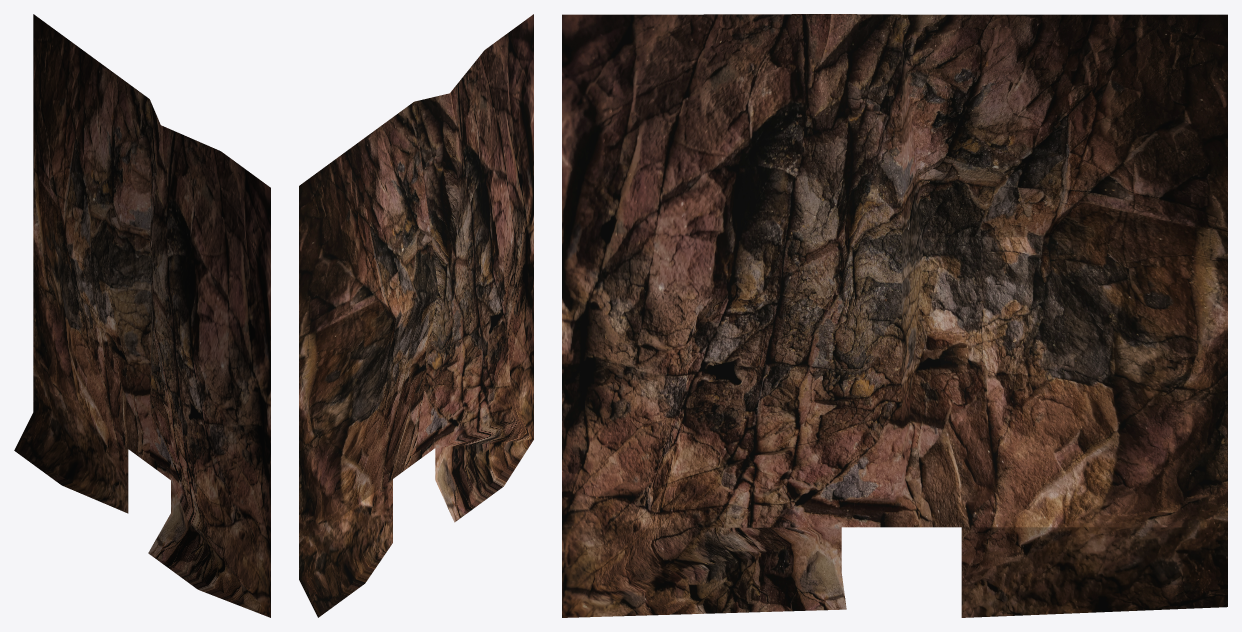
The model's file is Rotsmuur.fbx.
3 views of the same model, side by side, from view 1: azimuth 30°, elevation 25°; view 2: azimuth 150°, elevation 25°; view 3: azimuth 270°, elevation 25° (orthographic). The views are drawn at different scales.
Visible parts, largest first — view 1: Plane; view 2: Plane; view 3: Plane.
Part boxes in pixels (x1=…): Plane: x1=14, y1=14, x2=270, y2=617; Plane: x1=299, y1=14, x2=533, y2=617; Plane: x1=562, y1=14, x2=1227, y2=617.
Bounding box in the file's own units: 78.65 × 1010 × 1000.
